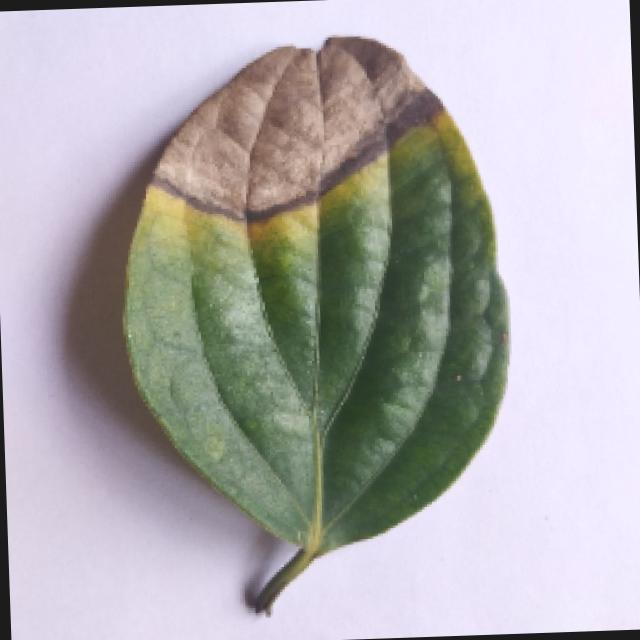footrot: (108, 32, 518, 618)
